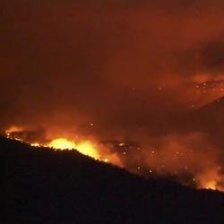fire: (23, 115, 224, 198)
